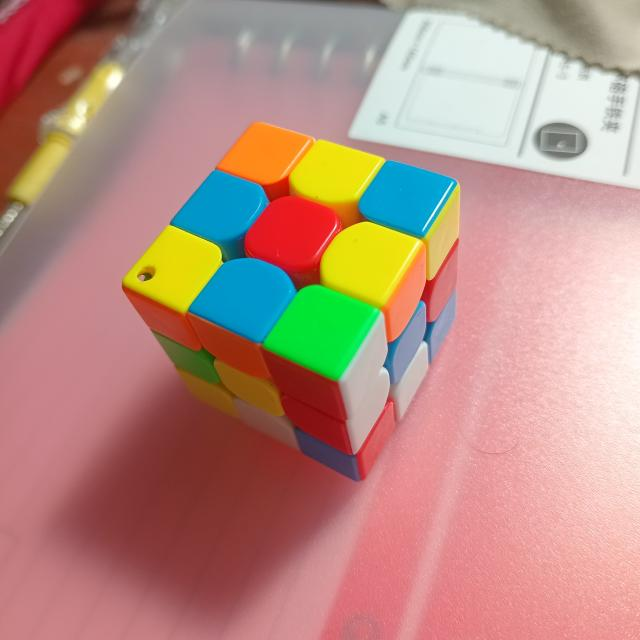back: (338, 183, 460, 481)
down: (122, 285, 360, 482)
right: (122, 122, 457, 381)
rubik: (117, 118, 462, 486)
